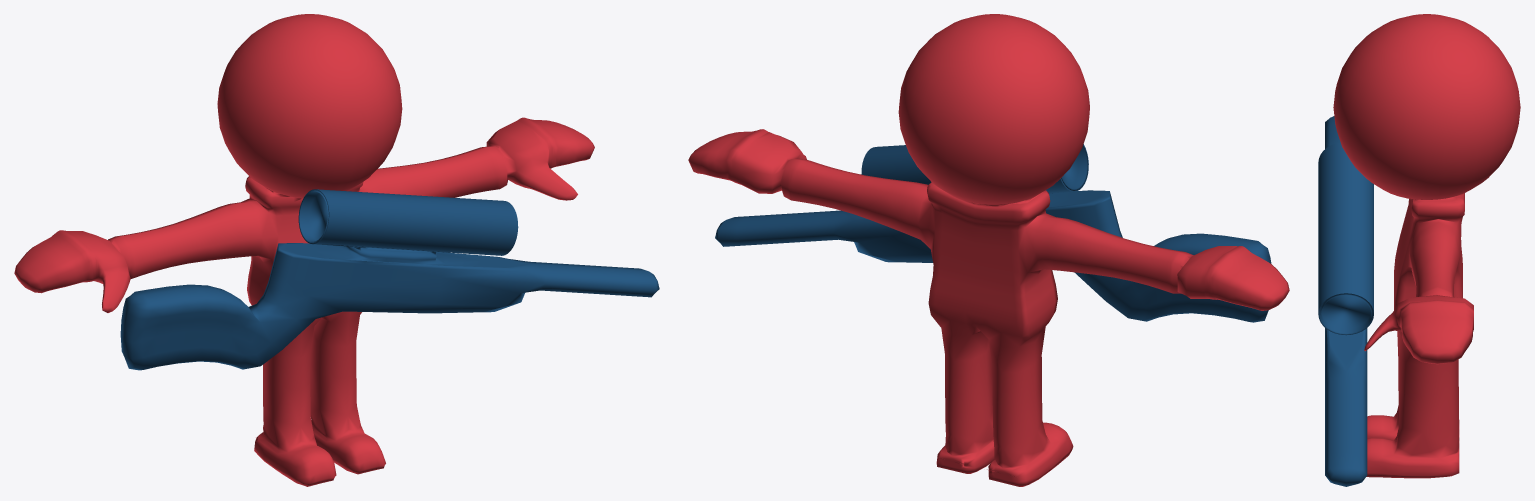
The model's file is sniper.fbx.
The picture shows the model from 3 angles, left to right: view 1: azimuth 30°, elevation 25°; view 2: azimuth 150°, elevation 25°; view 3: azimuth 270°, elevation 25°; orthographic projection. The views are drawn at different scales.
Visible parts, largest first — view 1: Gun; view 2: Gun; view 3: Gun.
Boxes of the visible parts, bbox=[...] form: Gun: bbox=[14, 14, 659, 486]; Gun: bbox=[688, 14, 1289, 486]; Gun: bbox=[1318, 14, 1520, 486].
Size of the model in its own units: 701 by 490 by 206.
